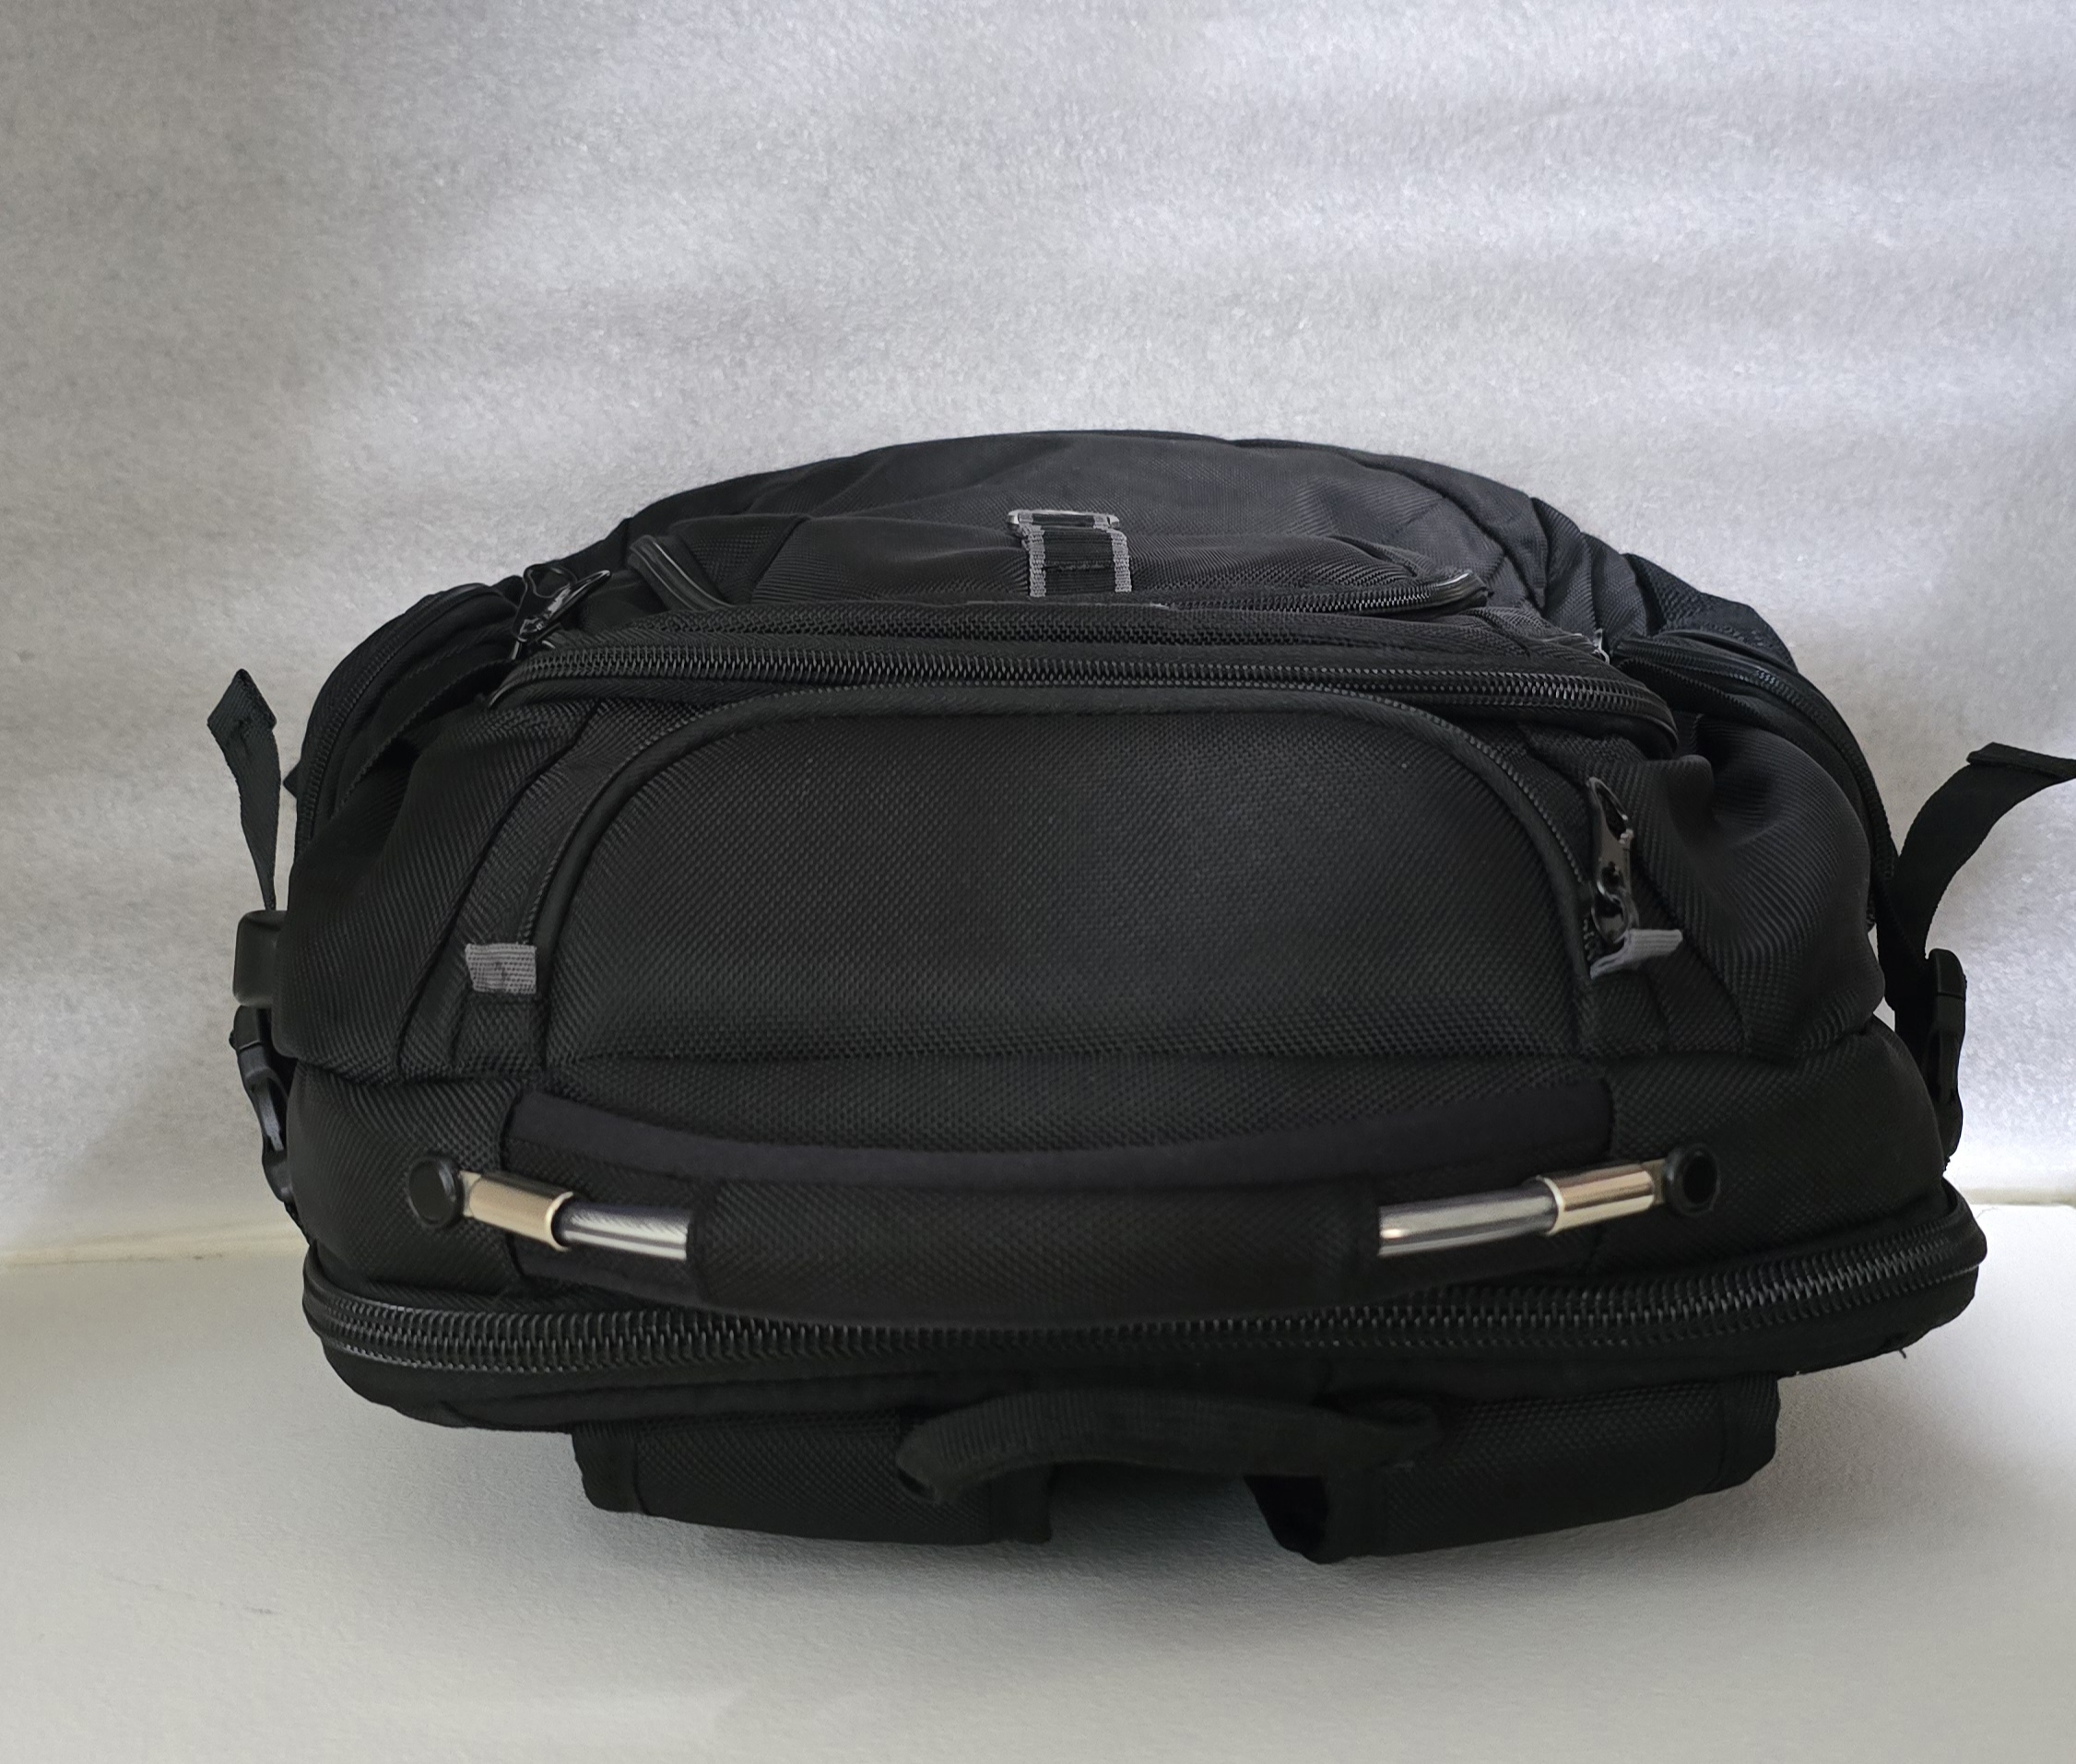bag: (133, 304, 2076, 1573)
